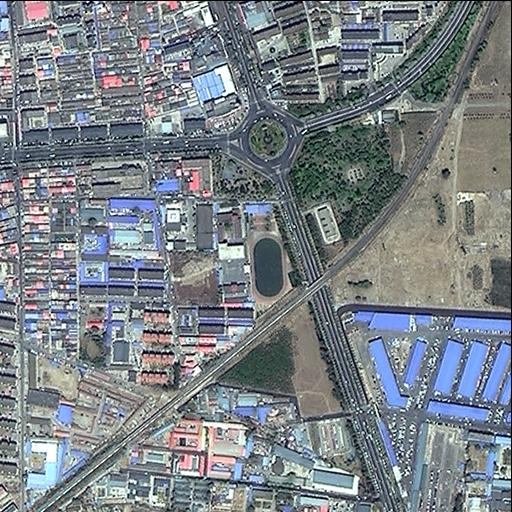school: (213, 199, 297, 308)
